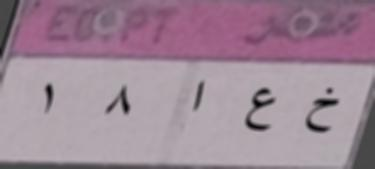1: (19, 71, 78, 122)
8: (99, 76, 141, 128)
ain: (240, 81, 284, 148)
alif: (182, 77, 221, 117)
khaa: (302, 83, 346, 146)
